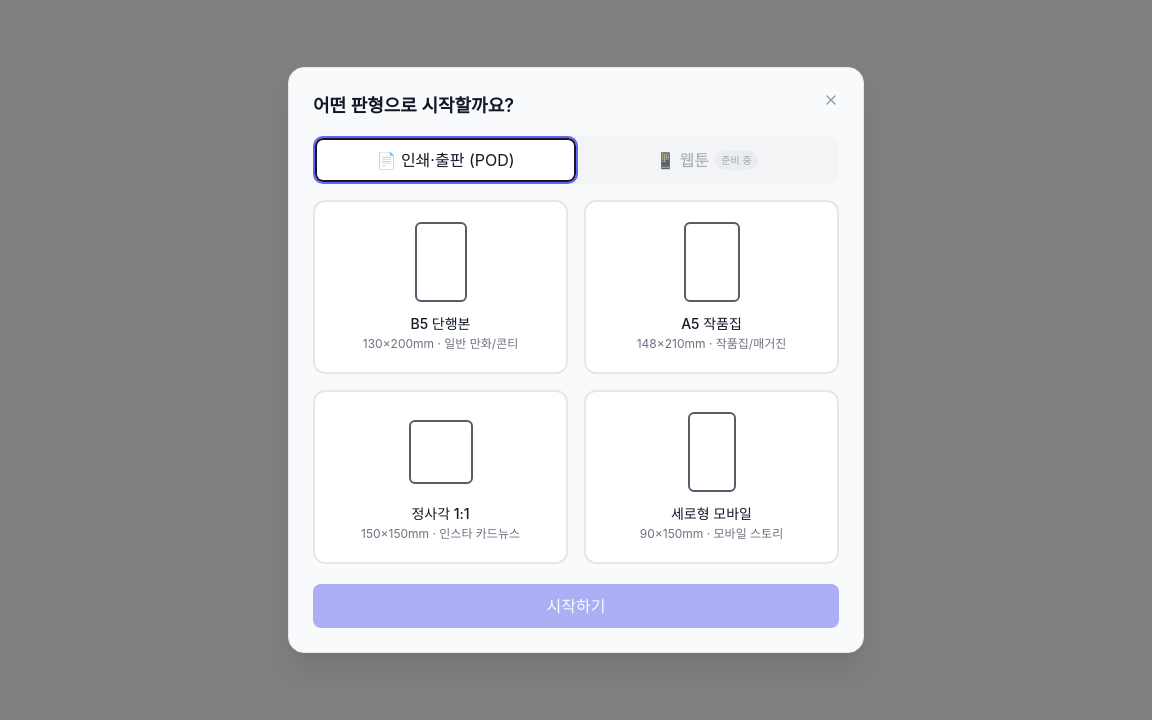
FormatPickerModal — 프리셋 선택 › 프리셋 선택 시 "시작하기" 버튼이 활성화된다
Click the radio button with test id "format-preset-preset:square".
click(440, 477)  # box [313, 390, 568, 564]
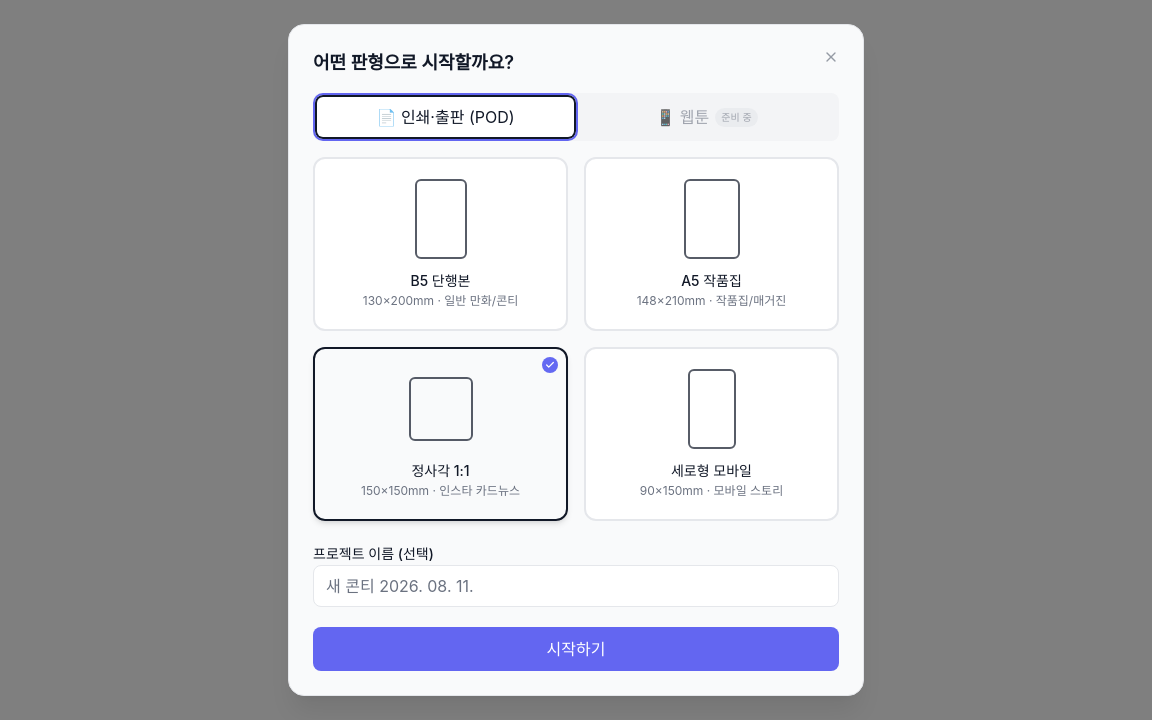
Check: the button with test id "format-picker-confirm" is enabled, box [313, 627, 839, 671]
